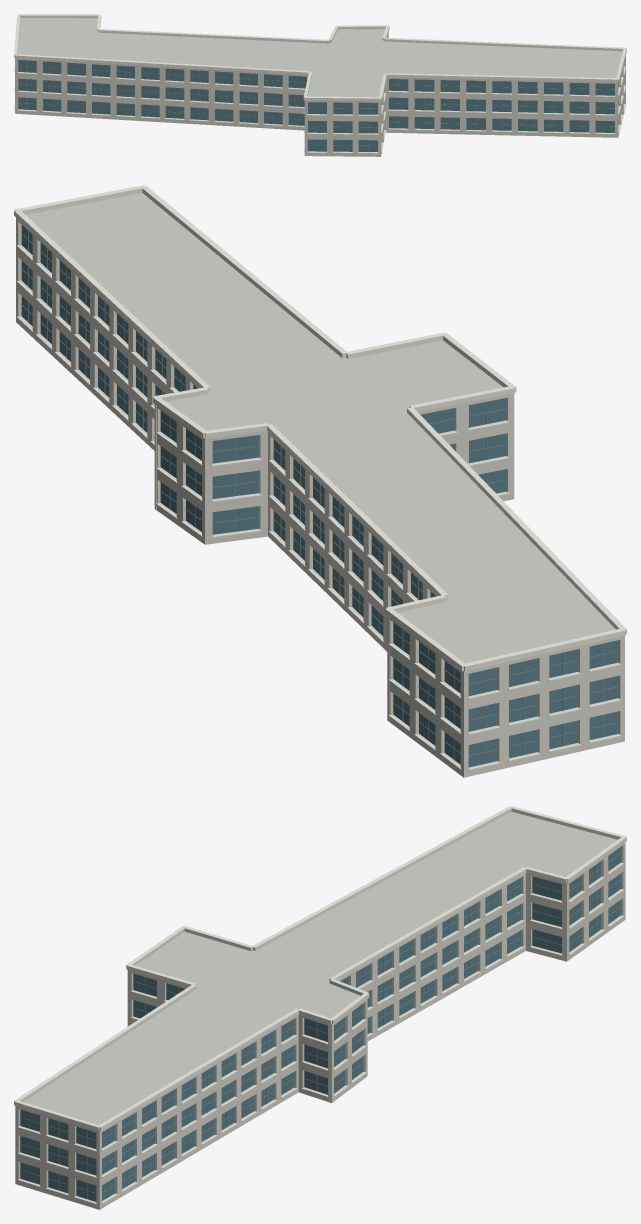
3 views of the same model, one above another, from view 1: azimuth 30°, elevation 25°; view 2: azimuth 150°, elevation 25°; view 3: azimuth 270°, elevation 25° (orthographic). The views are drawn at different scales.
Visible parts, largest first — view 1: roof, wall, glass, trim, metal; view 2: roof, wall, glass, trim, metal; view 3: roof, wall, glass, trim, metal.
Boxes of the visible parts, x1=… form: roof: x1=17, y1=18, x2=622, y2=97; wall: x1=15, y1=32, x2=625, y2=156; glass: x1=18, y1=60, x2=618, y2=151; trim: x1=14, y1=14, x2=626, y2=153; metal: x1=18, y1=60, x2=614, y2=151; roof: x1=26, y1=193, x2=615, y2=663; wall: x1=16, y1=218, x2=624, y2=777; glass: x1=21, y1=225, x2=618, y2=767; trim: x1=14, y1=185, x2=626, y2=770; metal: x1=21, y1=231, x2=618, y2=764; roof: x1=23, y1=811, x2=617, y2=1124; wall: x1=15, y1=842, x2=625, y2=1209; glass: x1=20, y1=847, x2=620, y2=1201; trim: x1=14, y1=806, x2=626, y2=1204; metal: x1=20, y1=852, x2=621, y2=1198.
Size of the model in its own units: 81.06 by 9.74 by 65.29.
